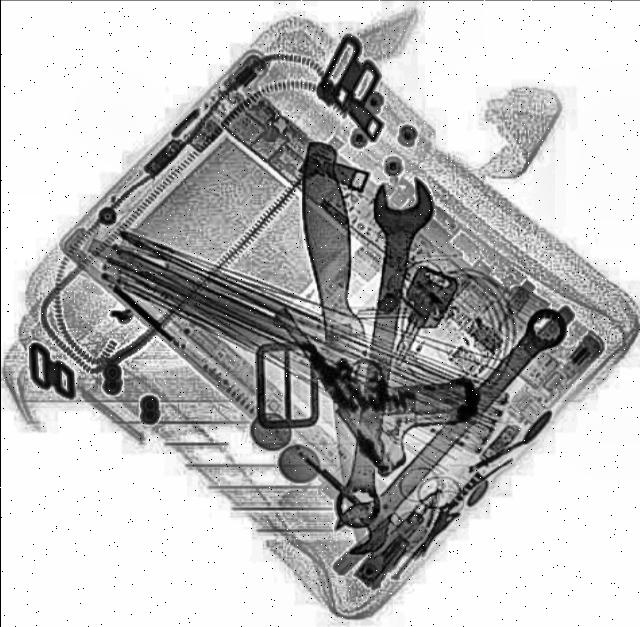Gun: (268, 250, 498, 478)
Knife: (296, 138, 388, 536)
Wrench: (325, 300, 577, 556), (328, 172, 439, 528)
